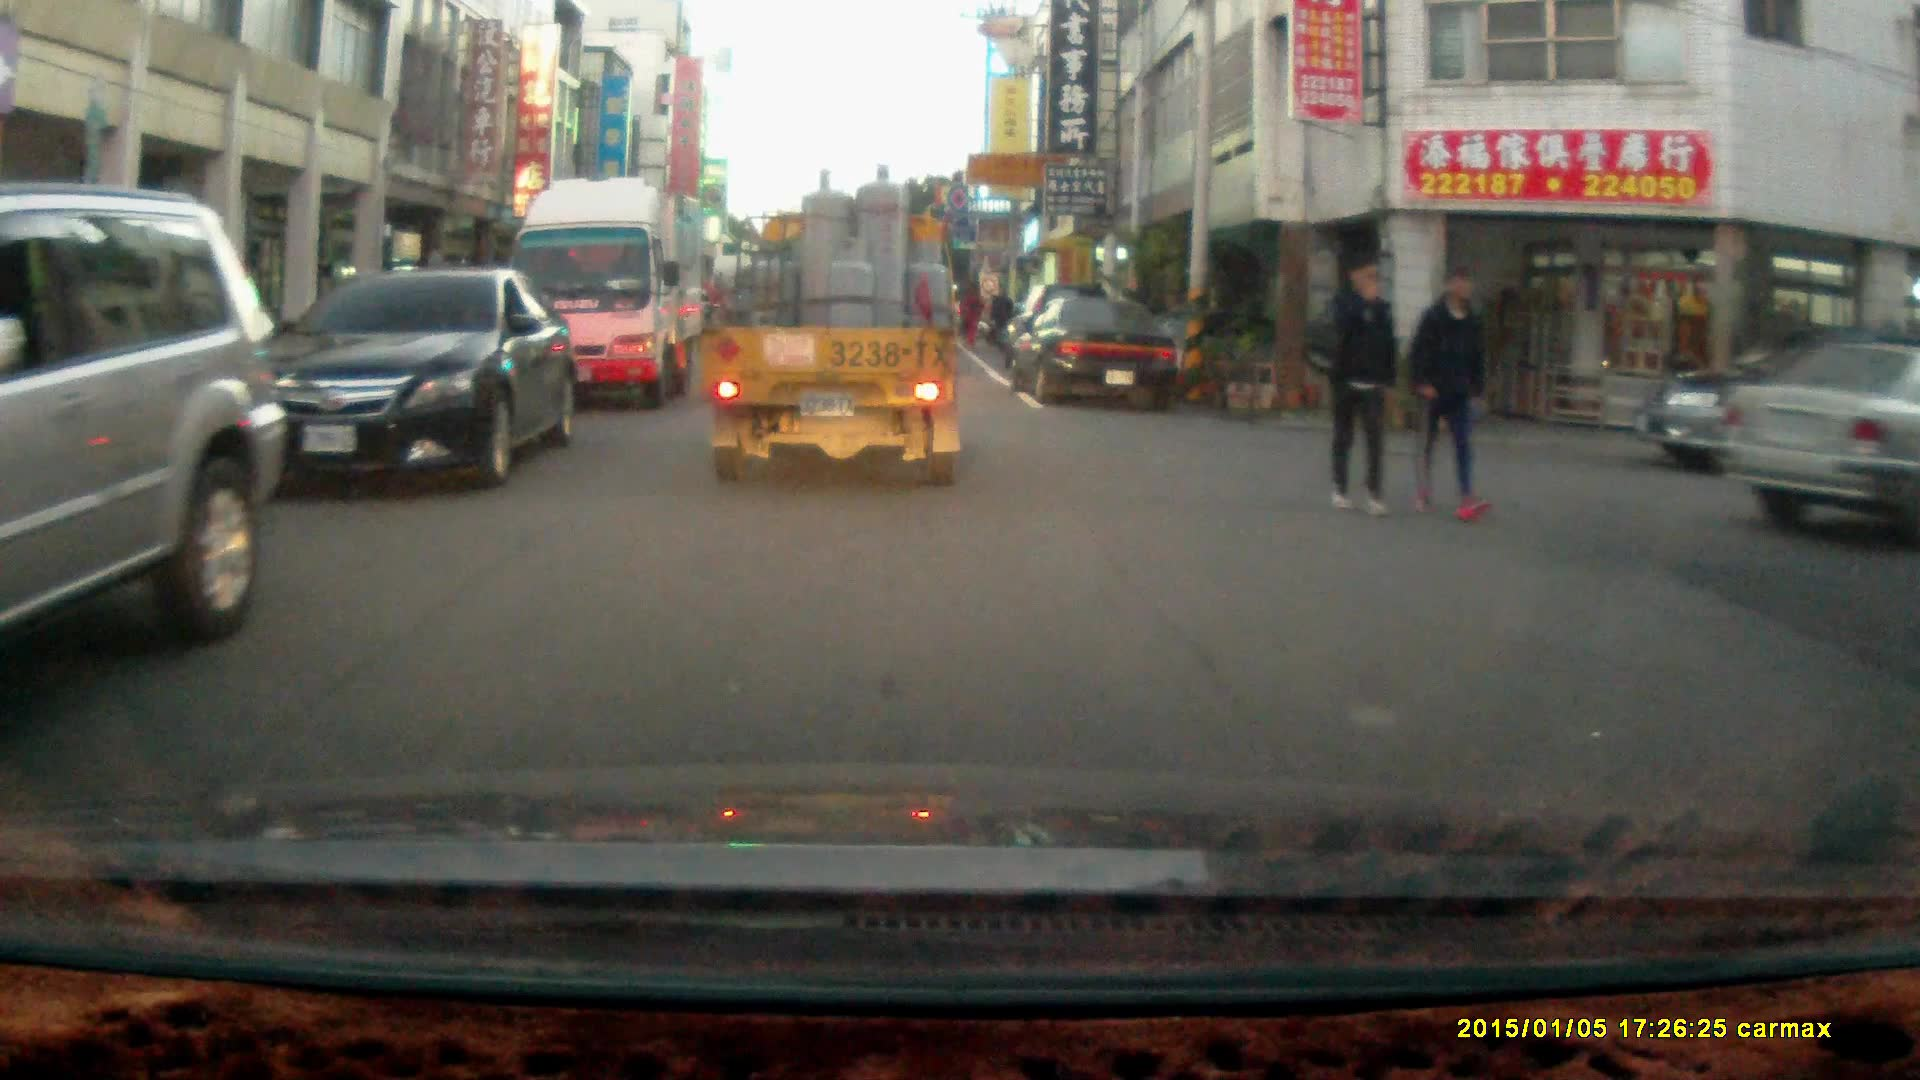pedestrian: (1405, 263, 1493, 527), (1323, 254, 1401, 520), (985, 279, 1014, 352), (958, 280, 983, 353)
vehicle: (1, 184, 291, 696), (703, 166, 969, 494), (213, 267, 585, 490), (503, 173, 707, 414), (1720, 343, 1920, 540), (1004, 297, 1182, 408)
